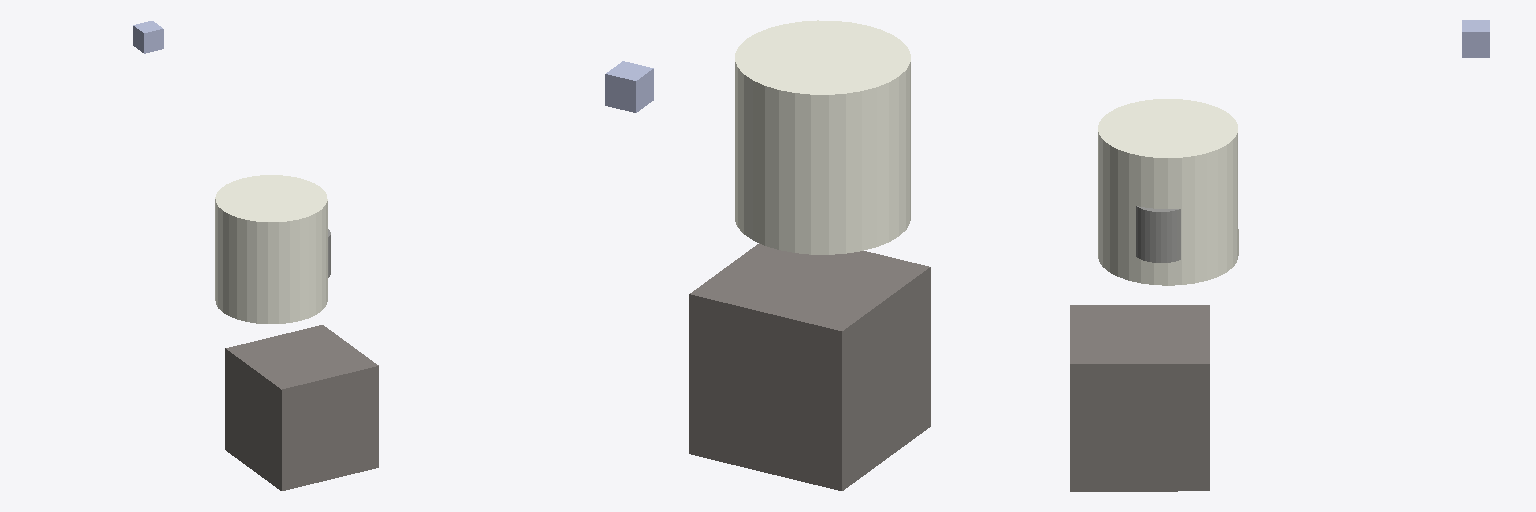
robot.urdf — magician_description:
<?xml version="1.0" encoding="utf-8"?>

<robot
  name="magician_description">
  <link name="base_footprint">
    <inertial>
      <origin xyz="0 0 0" rpy="0 0 0"/>
      <mass value="10.0"/>
      <inertia ixx="1.0" ixy="0.0" ixz="0.0" iyy="1.0" iyz="0.0" izz="1.0"/>
    </inertial>
  </link>
  <joint
    name="base_to_base_link"
    type="fixed">
    <origin
      xyz="0 0 0"
      rpy="1.571 0 0" />
    <parent
      link="base_footprint" />
    <child
      link="base_link" />
  </joint>
  <link
    name="base_link">
    <inertial>
      <origin
        xyz="-0.020063 -6.2161E-05 -0.087986"
        rpy="0 0 0" />
      <mass
        value="0.30578" />
      <inertia
        ixx="0.00071053"
        ixy="9.9243E-07"
        ixz="-2.4854E-07"
        iyy="0.00073873"
        iyz="-2.4877E-06"
        izz="0.0013851" />
    </inertial>
    <visual>
      <origin
        xyz="0 -0.152 0"
        rpy="0 0 0" />
      <geometry>
        <box size="0.1 0.1 0.1"/>
      </geometry>
      <material
        name="">
        <color
          rgba="0.58431 0.56471 0.54902 1" />
      </material>
    </visual>
    <collision>
      <origin
        xyz="0 0 0"
        rpy="0 0 0" />
      <geometry>
        <box size="0.1 0.1 0.1"/>
      </geometry>
    </collision>
  </link>
  <link
    name="shoulder">
    <inertial>
      <origin
        xyz="-0.024675 8.1407E-05 0.01482"
        rpy="0 0 0" />
      <mass
        value="0.2307" />
      <inertia
        ixx="0.00032472"
        ixy="-1.3752E-06"
        ixz="-6.0519E-06"
        iyy="0.00044936"
        iyz="3.4523E-08"
        izz="0.00065634" />
    </inertial>
    <visual>
      <origin
        xyz="0 0 0"
        rpy="0 0 0" />
      <geometry>
        <cylinder radius="0.05" length="0.1"/>
      </geometry>
      <material
        name="">
        <color
          rgba="1 1 0.9451 1" />
      </material>
    </visual>
    <collision>
      <origin
        xyz="0 0 0"
        rpy="0 0 0" />
      <geometry>
        <cylinder radius="0.05" length="0.1"/>
      </geometry>
    </collision>
  </link>
  <joint
    name="joint1"
    type="revolute">
    <origin
      xyz="-0.02 0 -0.02"
      rpy="1.5708 1.5708 0" />
    <parent
      link="base_link" />
    <child
      link="shoulder" />
    <axis
      xyz="0 0 1" />
    <limit
      lower="-3.14159"
      upper="3.14159"
      effort="100"
      velocity="1.0" />
  </joint>
  
  <link
    name="elbow">
    <inertial>
      <origin
        xyz="-0.015439 0.00011014 0.07257"
        rpy="0 0 0" />
      <mass
        value="0.075701" />
      <inertia
        ixx="0.00016334"
        ixy="5.1098E-08"
        ixz="-2.1519E-06"
        iyy="0.00015321"
        iyz="2.9412E-07"
        izz="2.175E-05" />
    </inertial>
    <visual>
      <origin
        xyz="0 0 0"
        rpy="0 0 0" />
      <geometry>
        <cylinder radius="0.03" length="0.05"/>
      </geometry>
      <material
        name="">
        <color
          rgba="1 1 0 1" />
      </material>
    </visual>
    <collision>
      <origin
        xyz="0 0 0"
        rpy="0 0 0" />
      <geometry>
        <cylinder radius="0.03" length="0.05"/>
      </geometry>
    </collision>
  </link>
  <joint
    name="joint2"
    type="revolute">
    <origin
      xyz="0 0 0"
      rpy="-3.1416 0 0" />
    <parent
      link="shoulder" />
    <child
      link="elbow" />
    <axis
      xyz="0 1 0" />
    <limit
      lower="-3.14159"
      upper="3.14159"
      effort="100"
      velocity="1.0" />
  </joint>
  
  <link
    name="wrist">
    <inertial>
      <origin
        xyz="0.054676 0.036747 0.1679"
        rpy="0 0 0" />
      <mass
        value="0.079987" />
      <inertia
        ixx="1.7698E-05"
        ixy="-1.2066E-08"
        ixz="1.3665E-06"
        iyy="0.00016288"
        iyz="-6.1383E-08"
        izz="0.00015897" />
    </inertial>
    <visual>
      <origin
        xyz="0.02 -0.035 -0.18"
        rpy="0 0 0" />
      <geometry>
        <cylinder radius="0.02" length="0.04"/>
      </geometry>
      <material
        name="">
        <color
          rgba="0.66667 0.66667 0.6549 1" />
      </material>
    </visual>
    <collision>
      <origin
        xyz="0 0 0"
        rpy="0 0 0" />
      <geometry>
        <cylinder radius="0.02" length="0.04"/>
      </geometry>
    </collision>
  </link>
  <joint
    name="joint3"
    type="revolute">
    <origin
      xyz="-0.025 0 0.17"
      rpy="0 0 0" />
    <parent
      link="elbow" />
    <child
      link="wrist" />
    <axis
      xyz="0 1 0" />
    <limit
      lower="-3.14159"
      upper="3.14159"
      effort="100"
      velocity="1.0" />
  </joint>
  
  <link
    name="wrist_pitch">
    <inertial>
      <origin
        xyz="0.19217 -8.6001E-05 0.15972"
        rpy="0 0 0" />
      <mass
        value="0.038525" />
      <inertia
        ixx="5.9393E-06"
        ixy="2.2172E-08"
        ixz="-1.3561E-06"
        iyy="1.4378E-05"
        iyz="-1.9867E-08"
        izz="9.2862E-06" />
    </inertial>
    <visual>
      <origin
        xyz="-0.17 0 -0.18"
        rpy="0 0 0" />
      <geometry>
        <cylinder radius="0.015" length="0.03"/>
      </geometry>
      <material
        name="">
        <color
          rgba="1 1 0.9451 1" />
      </material>
    </visual>
    <collision>
      <origin
        xyz="0 0 0"
        rpy="0 0 0" />
      <geometry>
        <cylinder radius="0.015" length="0.03"/>
      </geometry>
    </collision>
  </link>
  <joint
    name="joint4"
    type="revolute">
    <origin
      xyz="0.19 0 0"
      rpy="0 0 0" />
    <parent
      link="wrist" />
    <child
      link="wrist_pitch" />
    <axis
      xyz="0 1 0" />
    <limit
      lower="-3.14159"
      upper="3.14159"
      effort="100"
      velocity="1.0" />
  </joint>
  
  <link
    name="gripper">
    <inertial>
      <origin
        xyz="-0.0043651 1.1915E-10 -0.01292"
        rpy="0 0 0" />
      <mass
        value="0.028937" />
      <inertia
        ixx="4.2325E-06"
        ixy="-4.7385E-14"
        ixz="5.6853E-10"
        iyy="4.2309E-06"
        iyz="6.1764E-14"
        izz="1.0196E-06" />
    </inertial>
    <visual>
      <origin
        xyz="0 0 0"
        rpy="0 0 0" />
      <geometry>
        <box size="0.02 0.02 0.02"/>
      </geometry>
      <material
        name="">
        <color
          rgba="0.79216 0.81961 0.93333 1" />
      </material>
    </visual>
    <collision>
      <origin
        xyz="0 0 0"
        rpy="0 0 0" />
      <geometry>
        <box size="0.02 0.02 0.02"/>
      </geometry>
    </collision>
  </link>
  <joint
    name="joint5"
    type="prismatic">
    <origin
      xyz="0.054 0 -0.05"
      rpy="0 0 0" />
    <parent
      link="wrist_pitch" />
    <child
      link="gripper" />
    <axis
      xyz="0 0 -1" />
    <limit
      lower="0"
      upper="0.1"
      effort="100"
      velocity="0.5" />
  </joint>
  <gazebo>
    <plugin filename="libignition-gazebo-joint-trajectory-controller-system.so" name="ignition::gazebo::systems::JointTrajectoryController">
      <topic>/joint_trajectory</topic>
      <joint_name>joint1</joint_name>
      <joint_name>joint2</joint_name>
      <joint_name>joint3</joint_name>
      <joint_name>joint4</joint_name>
      <joint_name>joint5</joint_name>
    </plugin>
  </gazebo>
</robot>

--- Render facts (derived) ---
The picture shows the robot from 3 angles, left to right: view 1: azimuth 30°, elevation 25°; view 2: azimuth 150°, elevation 25°; view 3: azimuth 270°, elevation 25°; orthographic projection.
Robot: magician_description — 7 links, 6 joints (4 revolute, 1 prismatic, 1 fixed); root link base_footprint; default pose: all joints at 0.
Links seen in each view (by area): view 1: base_link, shoulder, gripper; view 2: base_link, shoulder, gripper; view 3: base_link, shoulder, wrist, gripper.
Boxes of the visible links, x1,y1,x2,y2 form: base_link: (225, 325, 378, 490); shoulder: (215, 175, 327, 323); gripper: (133, 21, 163, 53); base_link: (689, 243, 930, 490); shoulder: (735, 20, 910, 254); gripper: (605, 61, 653, 112); base_link: (1070, 305, 1209, 491); shoulder: (1098, 99, 1238, 285); wrist: (1136, 206, 1180, 262); gripper: (1462, 20, 1489, 57).
Bounding box of the posed robot: 0.12 × 0.299 × 0.3321 m (x, y, z).
Geometry: primitives only (box / cylinder / sphere), no mesh files.